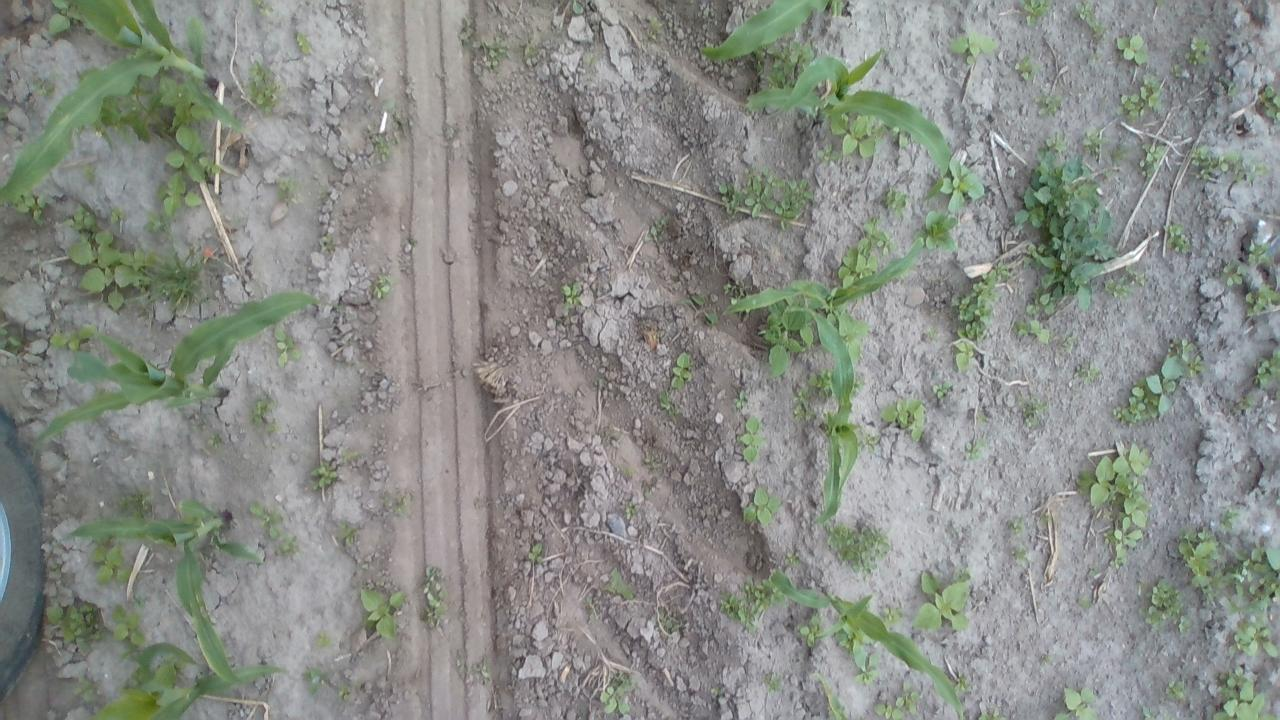Maize: (33, 290, 327, 465), (1, 0, 242, 200), (62, 497, 261, 684), (746, 46, 951, 202), (770, 558, 964, 716), (784, 304, 861, 526), (88, 642, 285, 720), (726, 239, 926, 315), (699, 1, 831, 62), (822, 682, 842, 720)
Weeds: (1020, 141, 1118, 272), (1074, 441, 1152, 568), (156, 77, 222, 217), (1112, 337, 1199, 425), (70, 227, 152, 311), (1221, 543, 1280, 658), (712, 168, 811, 232), (130, 237, 212, 314), (959, 258, 1012, 337), (911, 566, 973, 632), (102, 92, 170, 147), (1210, 666, 1278, 720), (763, 308, 814, 378), (822, 516, 888, 570), (1174, 523, 1226, 588), (840, 218, 891, 282), (1140, 574, 1192, 634), (46, 600, 98, 656), (719, 582, 778, 630), (357, 586, 405, 640), (942, 160, 986, 211), (882, 396, 928, 444), (832, 113, 880, 158), (948, 28, 998, 68), (1119, 75, 1164, 117), (242, 59, 276, 114), (87, 541, 128, 585), (1190, 146, 1243, 180), (742, 484, 782, 529), (838, 310, 872, 360), (876, 679, 919, 717), (594, 678, 634, 718), (1054, 685, 1098, 720), (48, 321, 96, 352), (247, 501, 286, 539), (739, 413, 768, 462), (420, 564, 445, 620), (46, 0, 80, 41), (926, 210, 960, 251), (779, 37, 814, 75), (112, 603, 146, 641), (1116, 32, 1150, 69), (119, 488, 158, 520), (1014, 395, 1048, 430), (248, 395, 281, 431), (794, 390, 823, 430), (604, 570, 639, 603), (1245, 284, 1280, 316), (684, 294, 719, 326), (274, 330, 302, 368), (1013, 320, 1051, 348), (1252, 348, 1279, 385), (480, 35, 510, 68), (671, 352, 696, 391), (801, 614, 828, 650), (852, 652, 881, 684), (13, 194, 46, 222), (66, 206, 102, 231), (1073, 360, 1104, 389), (1140, 143, 1166, 177), (1080, 1, 1104, 36), (949, 341, 975, 373), (1183, 35, 1211, 64), (1024, 0, 1053, 28), (1034, 92, 1066, 117), (1166, 223, 1192, 253), (1082, 129, 1110, 156), (1245, 240, 1274, 266), (370, 127, 394, 158), (1016, 54, 1040, 84), (309, 462, 336, 488), (1260, 85, 1280, 119), (371, 268, 393, 298), (806, 365, 833, 389), (304, 667, 324, 699), (74, 678, 100, 702), (1103, 274, 1127, 300), (1222, 261, 1244, 288), (31, 74, 55, 98), (1124, 260, 1148, 284), (562, 281, 584, 307), (382, 494, 411, 513), (964, 438, 990, 459), (1112, 141, 1133, 167), (0, 326, 24, 348), (649, 214, 668, 240), (885, 190, 912, 208), (856, 431, 879, 452), (278, 176, 296, 202), (82, 163, 100, 189), (879, 604, 900, 625), (645, 16, 667, 36), (296, 33, 316, 55), (1249, 164, 1273, 182), (340, 519, 361, 539), (1220, 507, 1242, 526), (658, 390, 674, 416), (145, 214, 168, 232), (816, 142, 838, 160), (1005, 516, 1026, 534), (208, 434, 228, 452), (1164, 680, 1184, 698), (276, 536, 298, 552), (660, 616, 681, 632), (932, 380, 951, 397), (1046, 134, 1066, 150), (766, 672, 781, 693), (733, 390, 748, 410), (1012, 545, 1032, 560), (529, 542, 543, 562), (767, 72, 784, 88), (313, 630, 329, 646), (975, 711, 1006, 719), (1077, 594, 1093, 609), (955, 674, 969, 691), (1086, 52, 1105, 64), (1222, 78, 1237, 93), (341, 450, 358, 463), (322, 234, 336, 248), (522, 42, 534, 58), (258, 0, 272, 13), (721, 286, 736, 298), (976, 412, 989, 425), (338, 688, 352, 700), (786, 550, 800, 562), (1172, 62, 1184, 76), (110, 208, 122, 221), (926, 326, 939, 338), (626, 502, 636, 516), (623, 468, 632, 477), (1156, 0, 1162, 5)
